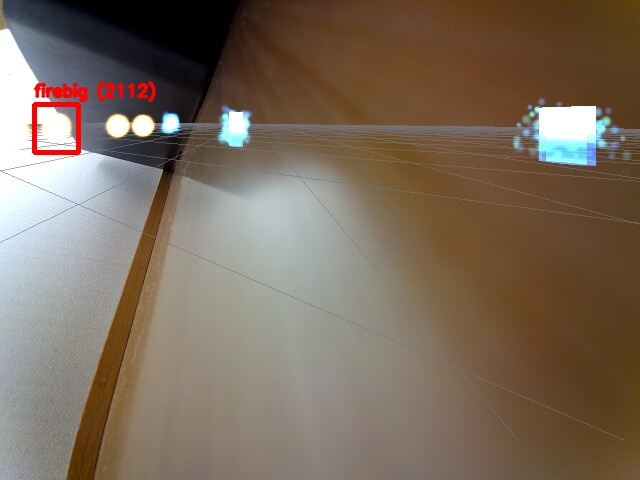firebig: (34, 104, 78, 152)
